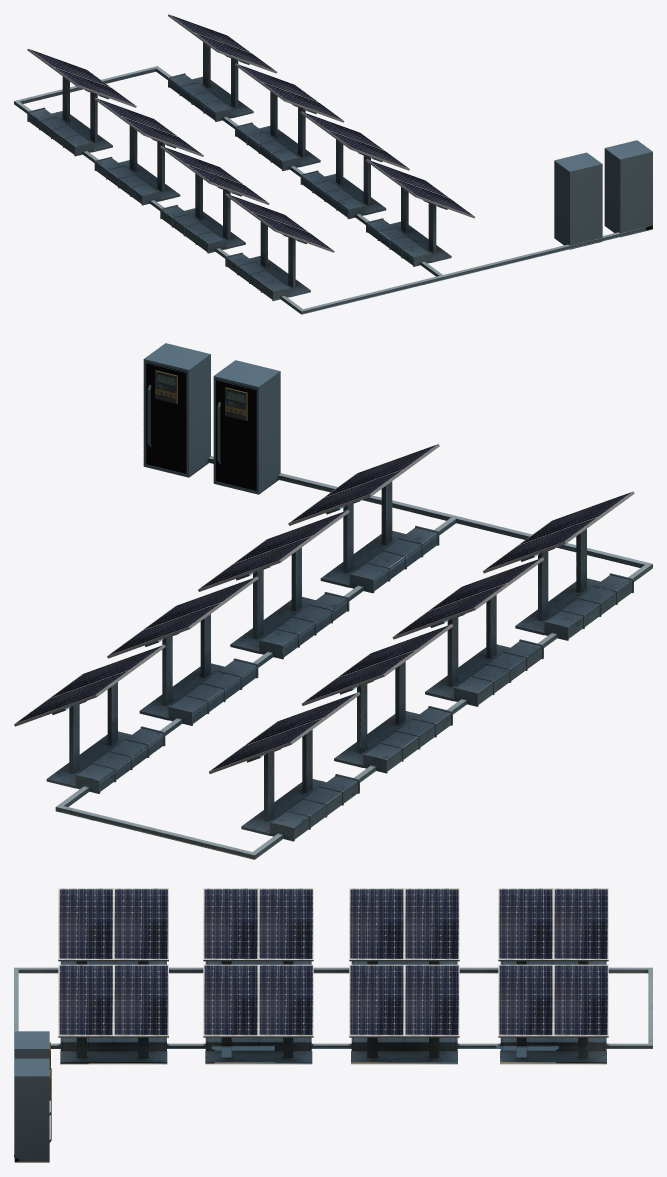
Rendered from Componenets_SolarPanel_grp_03.glb.
3 views of the same model, one above another, from view 1: azimuth 30°, elevation 25°; view 2: azimuth 150°, elevation 25°; view 3: azimuth 270°, elevation 25° (orthographic). The views are drawn at different scales.
Visible parts, largest first — view 1: Solar_P_support, Solar_panels, Solar_Box_02, Solar_Box_01; view 2: Solar_P_support, Solar_panels, Solar_Box_02, Solar_Box_01; view 3: Solar_panels, Solar_P_support, Solar_Box_02, Solar_Box_01.
Boxes of the visible parts, <box> form: Solar_P_support: <box>14,42,645,314</box>; Solar_panels: <box>27,14,474,252</box>; Solar_Box_02: <box>604,140,652,237</box>; Solar_Box_01: <box>554,152,602,249</box>; Solar_P_support: <box>46,456,652,859</box>; Solar_panels: <box>14,444,634,773</box>; Solar_Box_02: <box>143,343,210,477</box>; Solar_Box_01: <box>213,360,280,494</box>; Solar_panels: <box>58,888,608,1037</box>; Solar_P_support: <box>14,961,652,1157</box>; Solar_Box_02: <box>14,1058,51,1162</box>; Solar_Box_01: <box>14,1031,51,1115</box>.
Size of the model in its own units: 5.36 by 1.11 by 7.44.
Materials: 4 (3 with a texture image).
